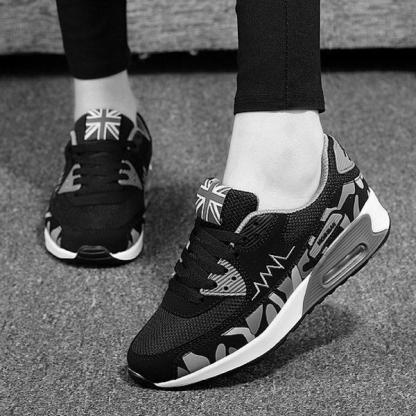ankle: (311, 203, 318, 210), (115, 133, 119, 138)
heel: (363, 188, 369, 195), (147, 155, 151, 159)
left_foot: (45, 111, 154, 267)
pinky: (202, 356, 208, 362), (47, 214, 50, 217)
right_foot: (135, 163, 392, 391)
toe: (138, 343, 143, 347), (128, 235, 132, 239)
